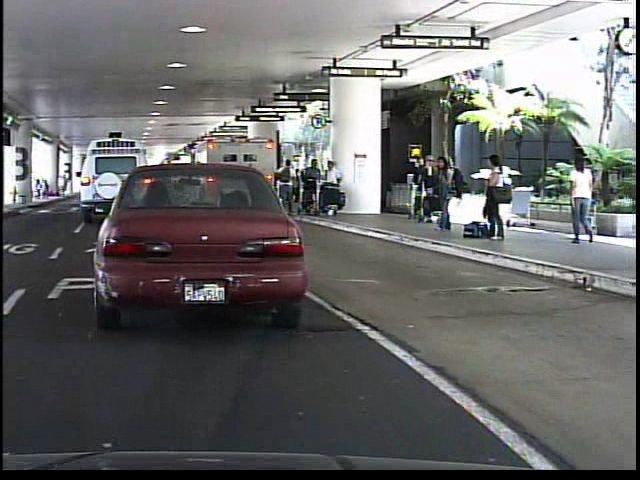person: (561, 153, 599, 247), (477, 150, 506, 243)
